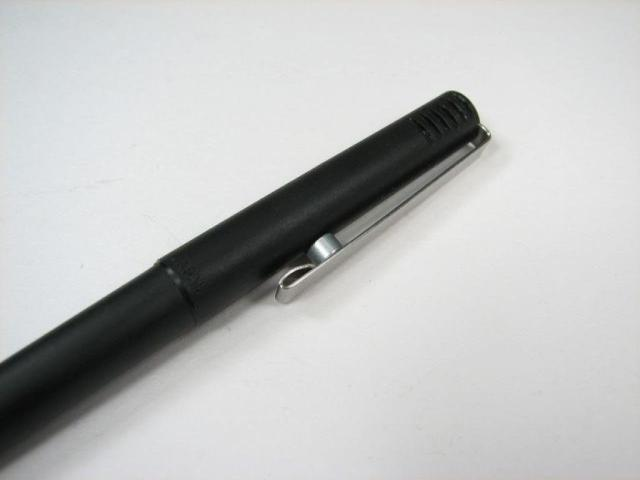PEN: (0, 65, 496, 461)
